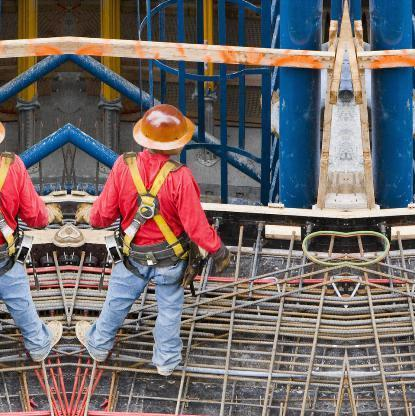helmet: (132, 100, 198, 154)
